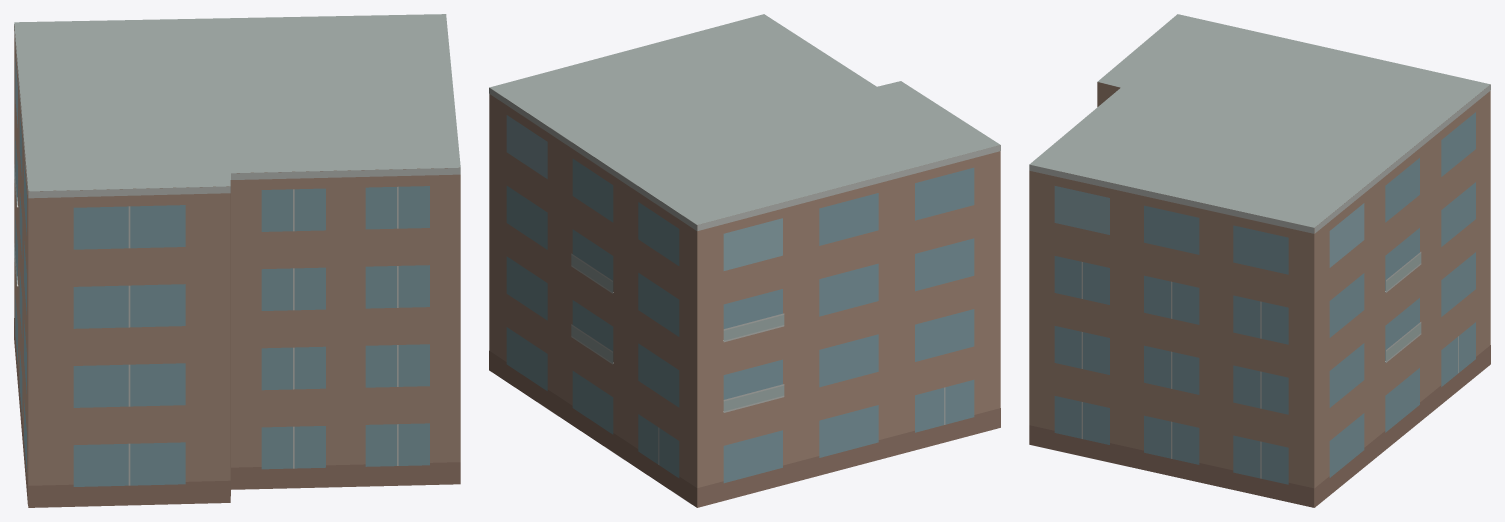
Rendered from survey-upis-32720247.glb.
3 views of the same model, side by side, from view 1: azimuth 30°, elevation 25°; view 2: azimuth 150°, elevation 25°; view 3: azimuth 270°, elevation 25° (orthographic). The views are drawn at different scales.
Parts seen in each view (by area): view 1: survey-upis-32720247.tmp; view 2: survey-upis-32720247.tmp; view 3: survey-upis-32720247.tmp.
Boxes of the visible parts, <box> form: survey-upis-32720247.tmp: <box>14,14,460,507</box>; survey-upis-32720247.tmp: <box>489,14,1000,507</box>; survey-upis-32720247.tmp: <box>1029,14,1490,507</box>.
Bounding box in the file's own units: 18.35 × 11.2 × 16.74.
